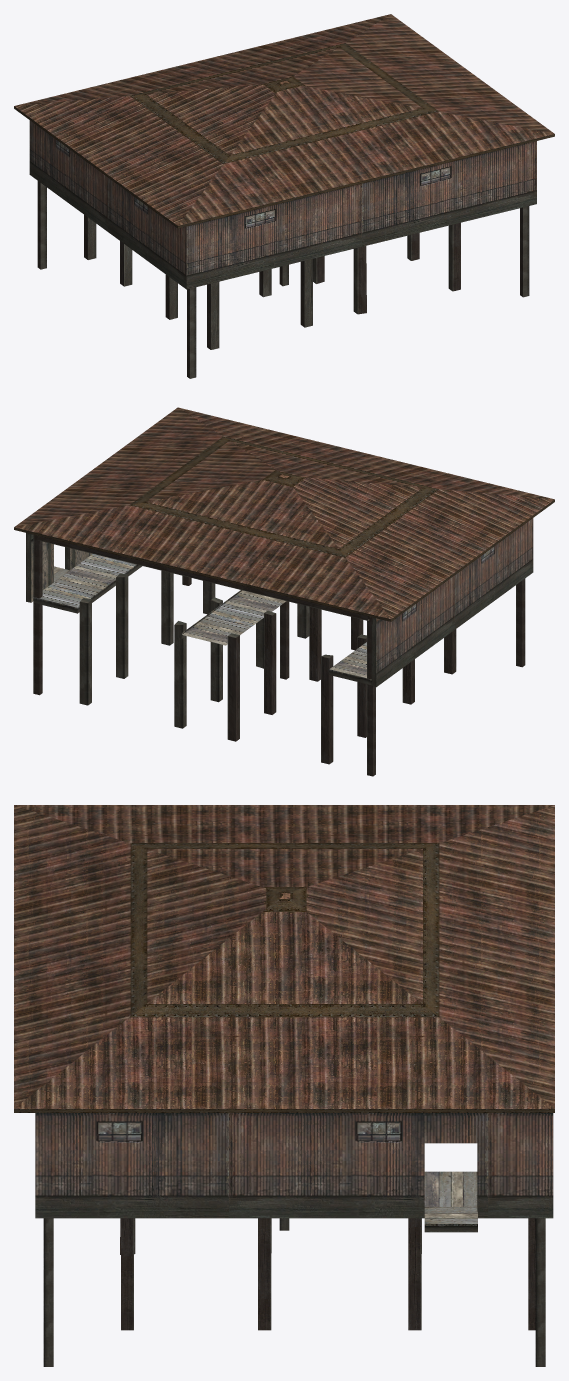
Rendered from DDBH01.glb.
The picture shows the model from 3 angles, top to bottom: view 1: azimuth 30°, elevation 25°; view 2: azimuth 150°, elevation 25°; view 3: azimuth 270°, elevation 25°; orthographic projection. The views are drawn at different scales.
Parts seen in each view (by area): view 1: _DDBH01; view 2: _DDBH01; view 3: _DDBH01.
Boxes of the visible parts, bbox=[...] form: _DDBH01: bbox=[14, 14, 554, 378]; _DDBH01: bbox=[14, 407, 554, 776]; _DDBH01: bbox=[14, 805, 554, 1366].
Bounding box in the file's own units: 22.06 × 11.21 × 16.44.
Materials: 4 (4 with a texture image).
